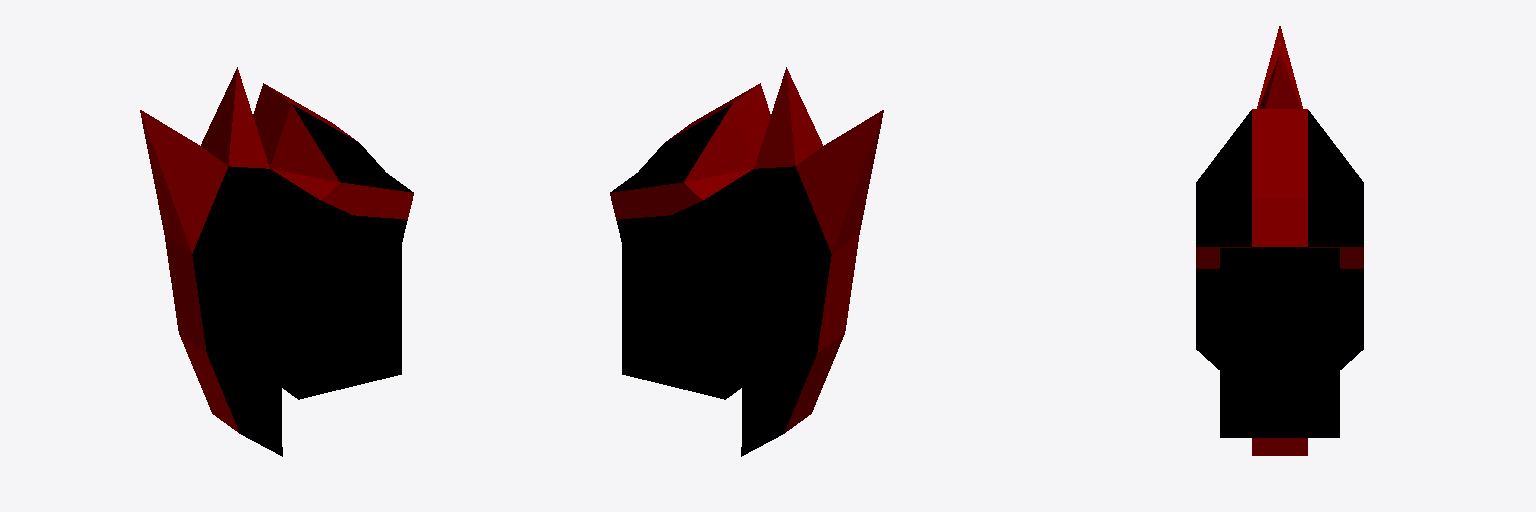
3 views of the same model, side by side, from view 1: azimuth 30°, elevation 25°; view 2: azimuth 150°, elevation 25°; view 3: azimuth 270°, elevation 25° (orthographic).
Bounding box in the file's own units: 2.24 × 3.56 × 1.4.
1 materials, 1 textured.